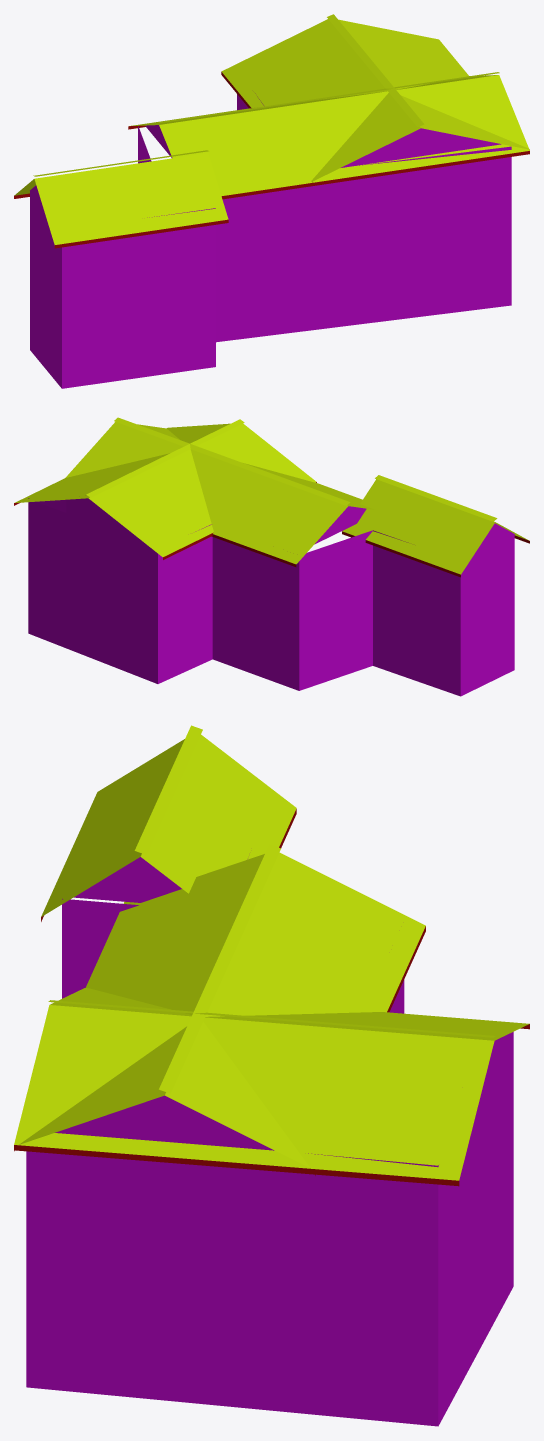
The model's file is bgj_48.glb.
3 renders of one model, top to bottom at view 1: azimuth 30°, elevation 25°; view 2: azimuth 150°, elevation 25°; view 3: azimuth 270°, elevation 25°, orthographic. The views are drawn at different scales.
Visible parts, largest first — view 1: bgj_48; view 2: bgj_48; view 3: bgj_48.
Part boxes in pixels (x1,y1,x2,y2): bgj_48: (14, 14, 529, 388); bgj_48: (14, 417, 529, 696); bgj_48: (14, 725, 529, 1426).
Size of the model in its own units: 18.55 by 7.02 by 10.22.
